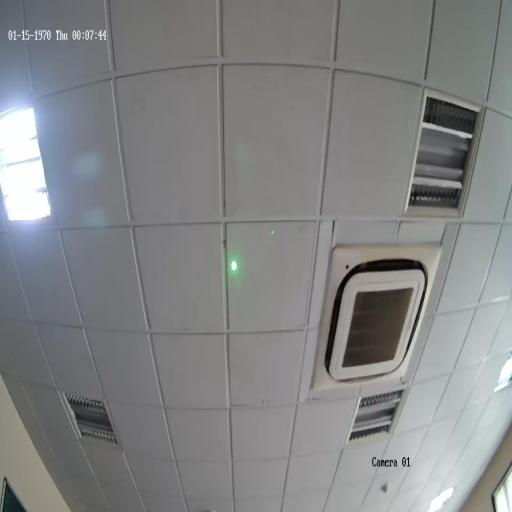laser: (230, 258, 238, 272)
